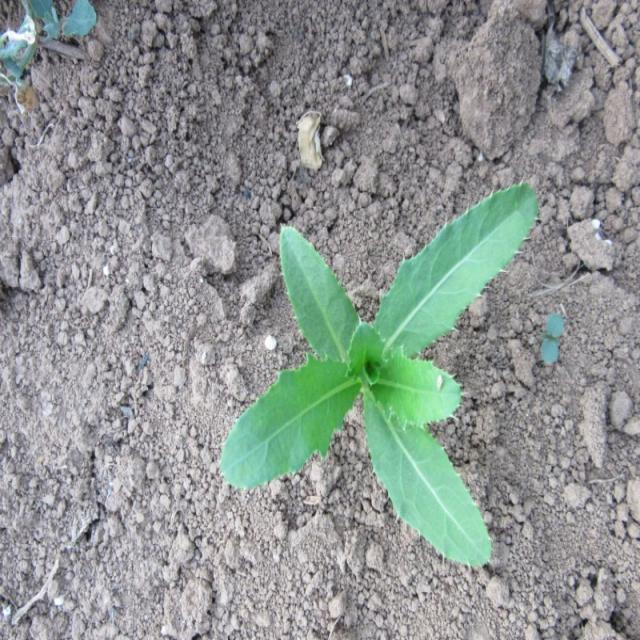cs: (215, 182, 541, 573)
